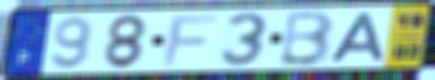3: (218, 11, 272, 68)
8: (101, 13, 149, 70)
9: (48, 15, 96, 70)
A: (328, 12, 388, 63)
B: (276, 9, 337, 67)
F: (160, 13, 221, 67)
